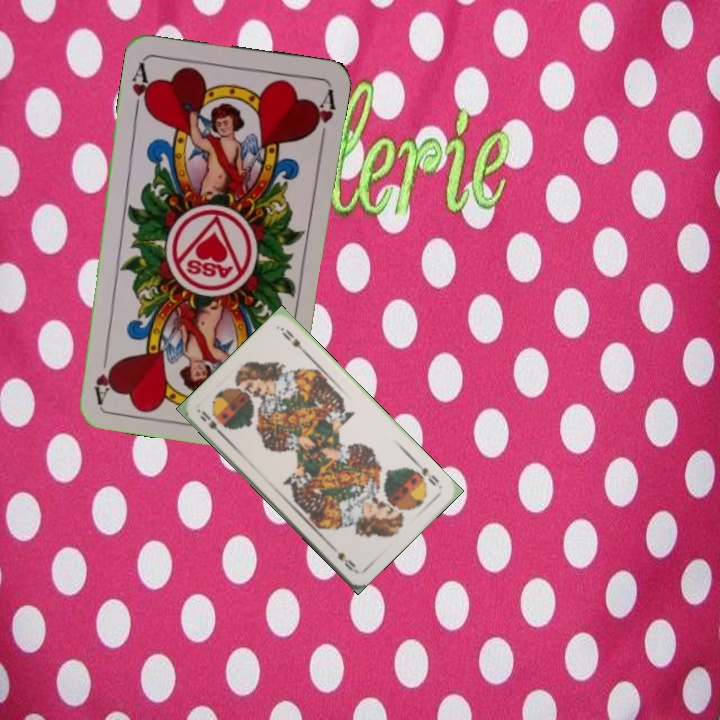HA: (127, 56, 155, 116)
SO: (195, 407, 227, 440), (411, 458, 442, 488)
